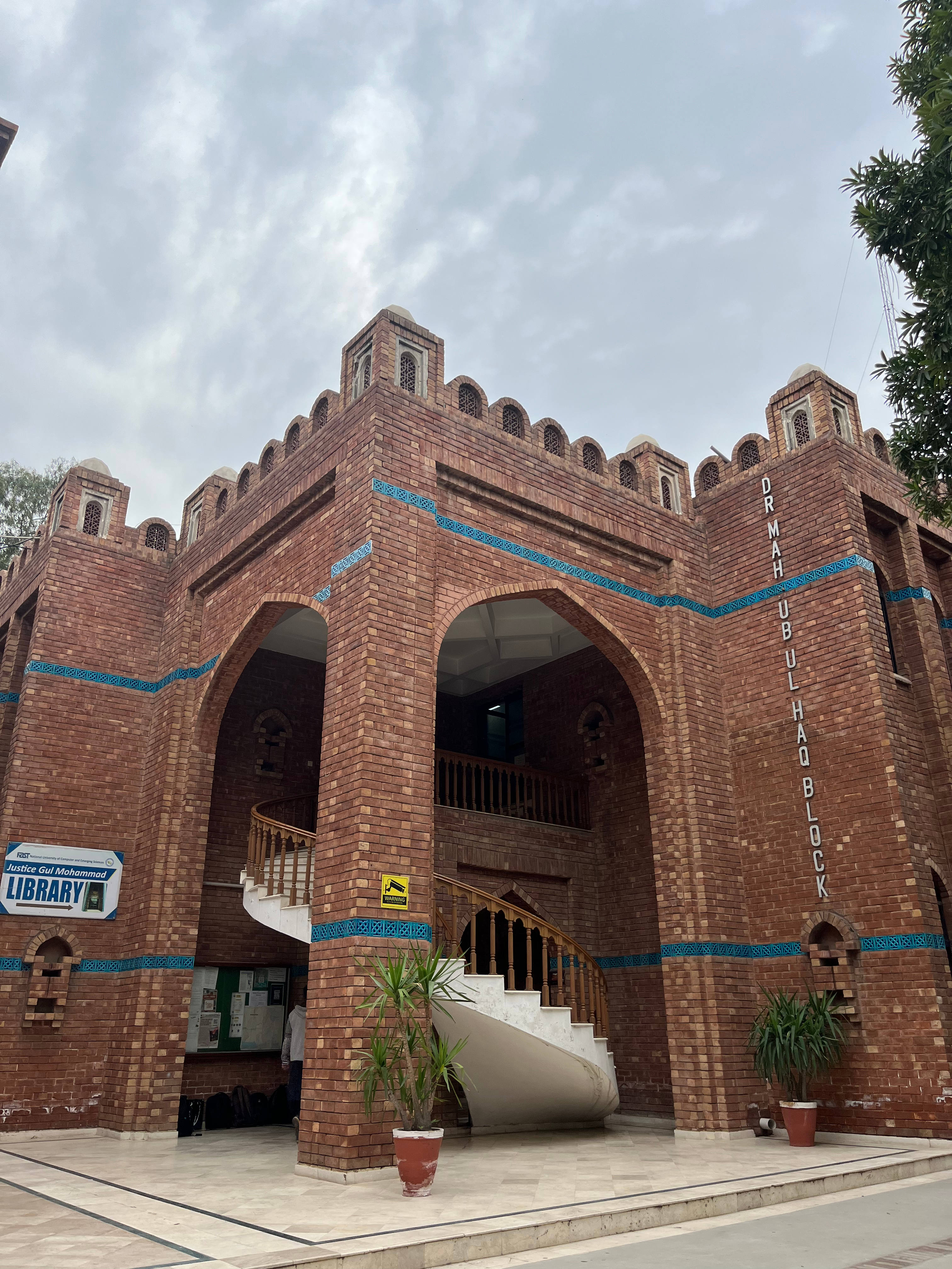Block E: (2, 303, 952, 1194)
